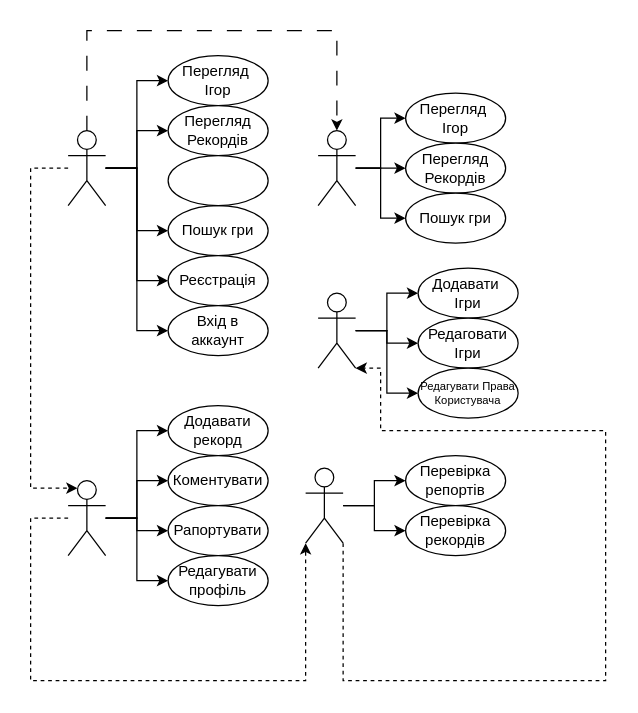
Image size: 638x713. Some labels were removed from this diagram. The shapes that lost their labels are listed below. From the top down, each one's centre as x and y in pixels, then its label:
At point 86,167: "U nregistered".
At point 217,180: "Перегляд Ігорвих новин".
At point 336,167: "Blocked".
At point 336,330: "Admin".
At point 86,517: "User".
At point 323,505: "Moderator".
